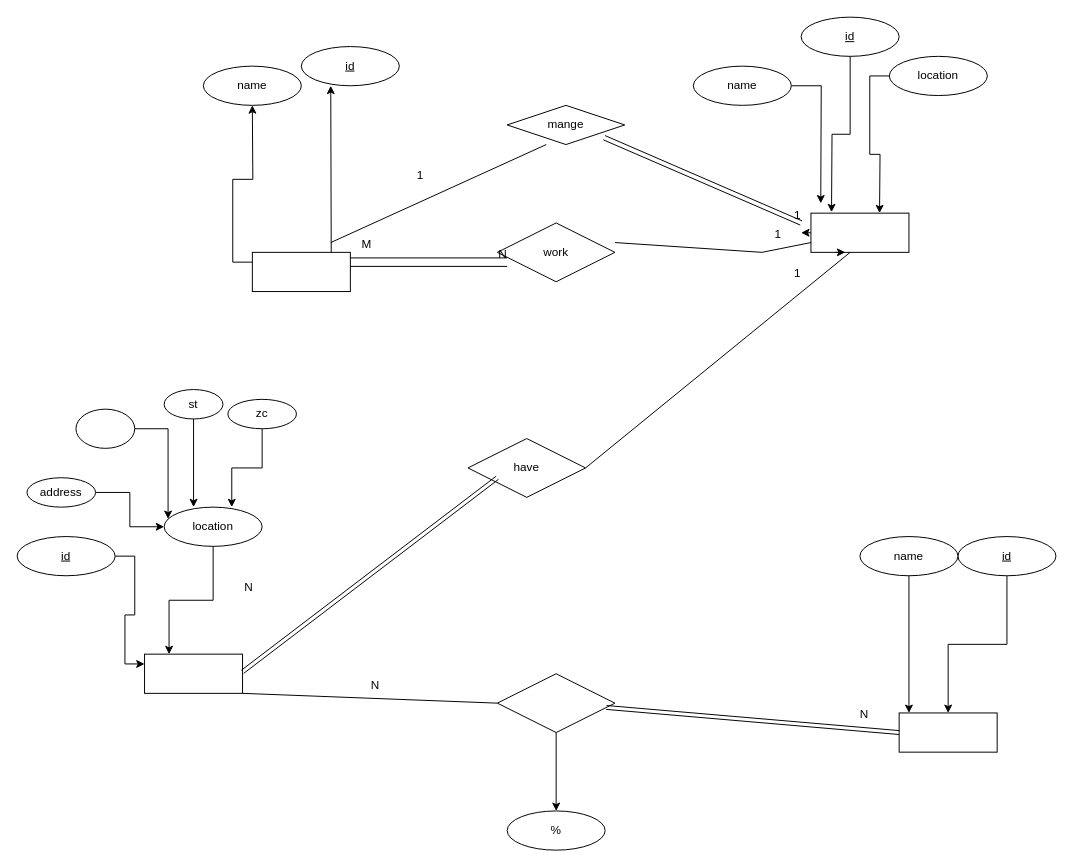
This 1073x867 diagram has some shape labels left out. The box of each missing label's shape, as (x1, y1, x2, y2) in pixels:
city: (75, 408, 135, 448)
embloyee: (251, 251, 350, 292)
owner: (898, 712, 997, 752)
proplty sals: (144, 653, 243, 693)
Relationship: (496, 673, 615, 733)
saleoffce: (810, 212, 909, 252)
